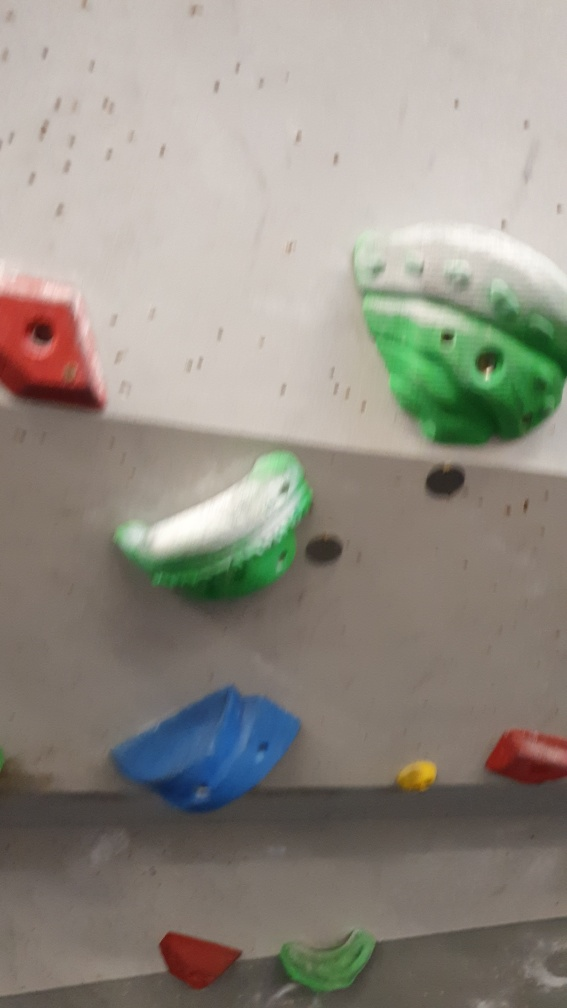Crimp: (1, 265, 116, 415), (484, 720, 567, 788)
Hand Start: (298, 526, 347, 575), (424, 455, 467, 509)
Jug: (347, 217, 567, 447), (113, 442, 319, 611), (278, 920, 384, 993)
Pinch: (110, 676, 306, 816)
